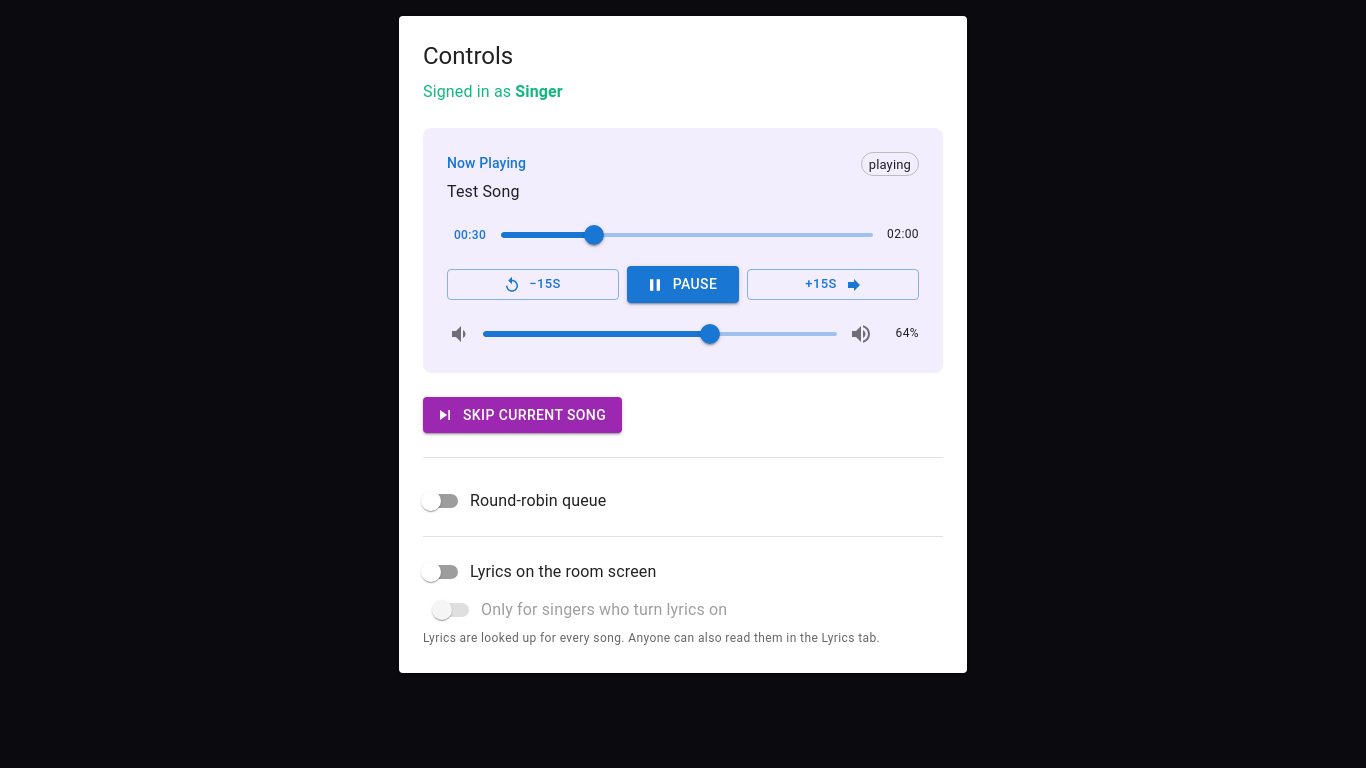
Test case: controller playback controls › opens the current time for exact entry and rejects times beyond the video
This screenshot has width=1366, height=768.
Click the button named "Enter exact playback time". click: (470, 235)
box: [447,223,493,248]
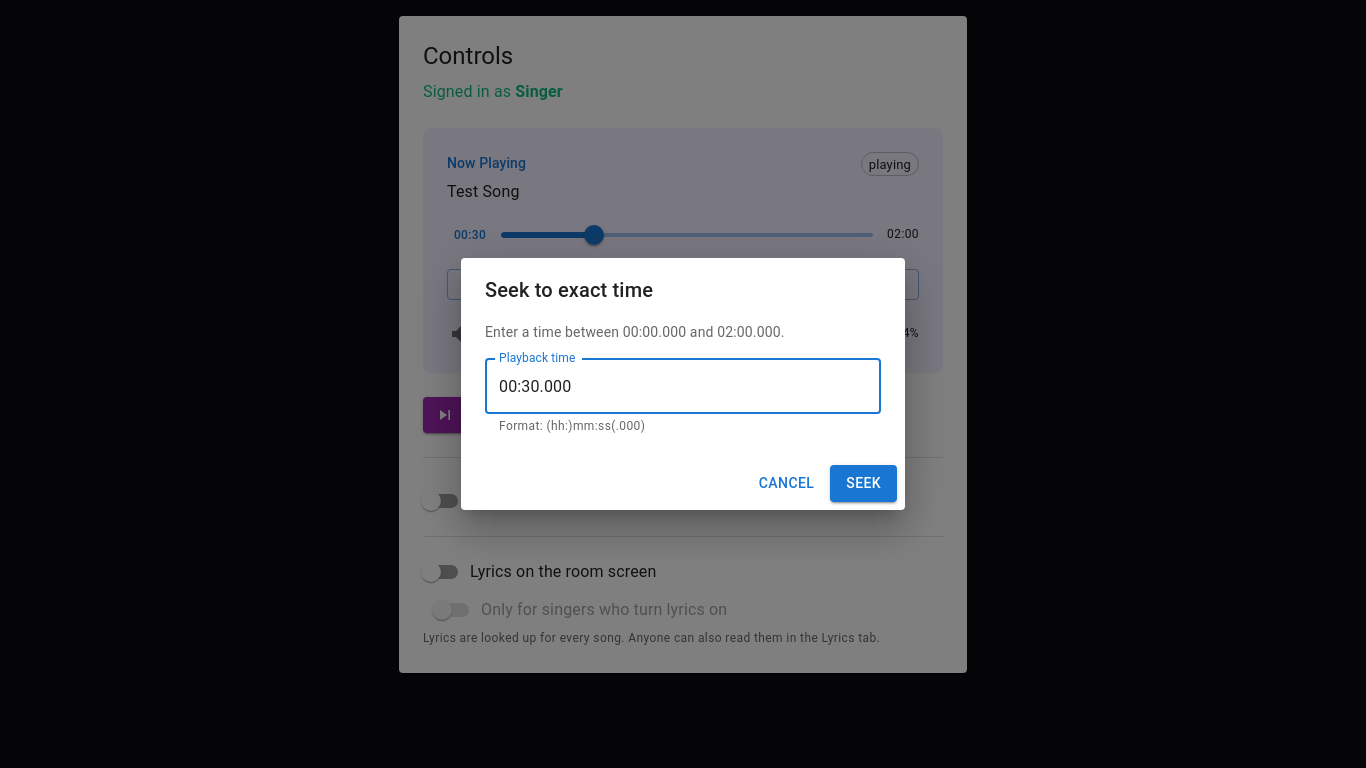
Result: the dialog "Seek to exact time" is shown at [461,258,905,510]
Result: the field labelled "Playback time" holds "00:30.000"
Replace the text in the field labelled "Playback time" with "02:00.001". click: (683, 386)
box: [485,358,881,414]
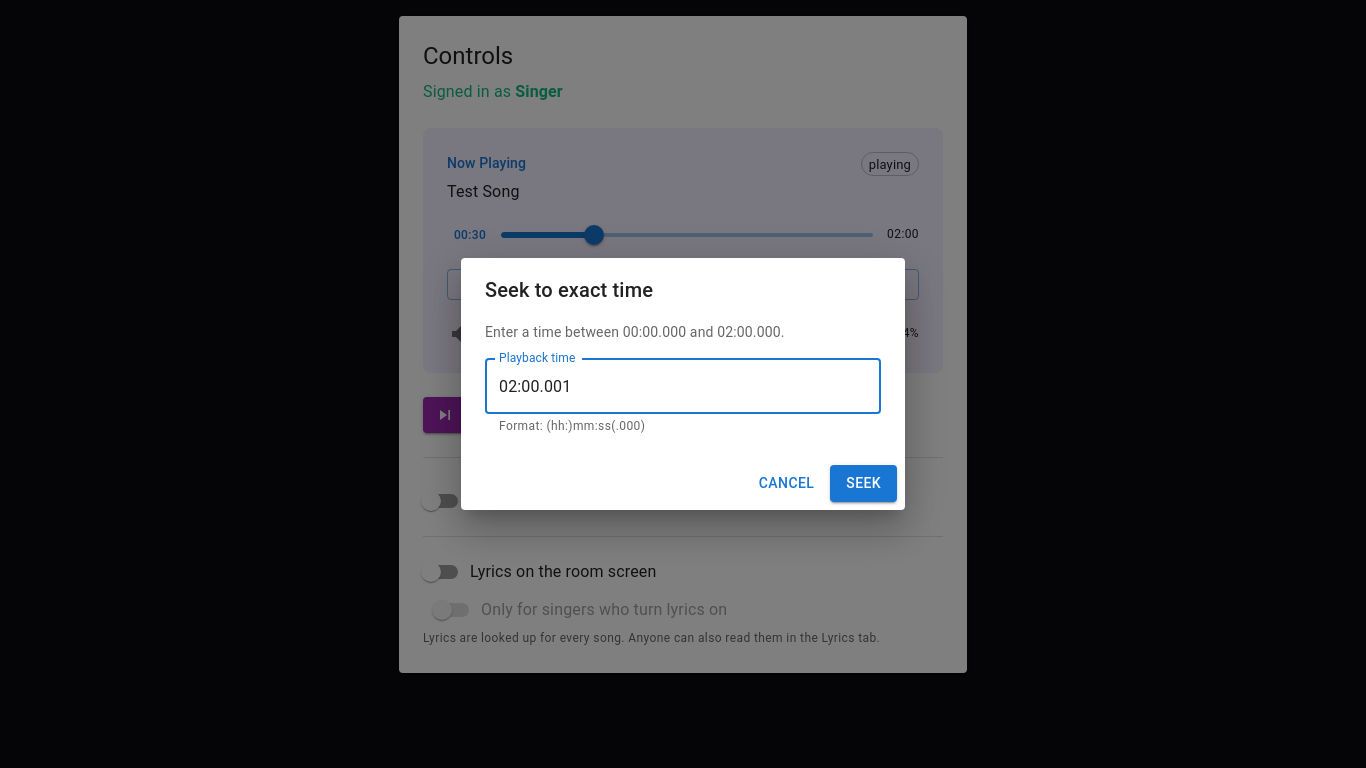
Click the button "Seek". click: (864, 483)
box: [830,465,897,502]
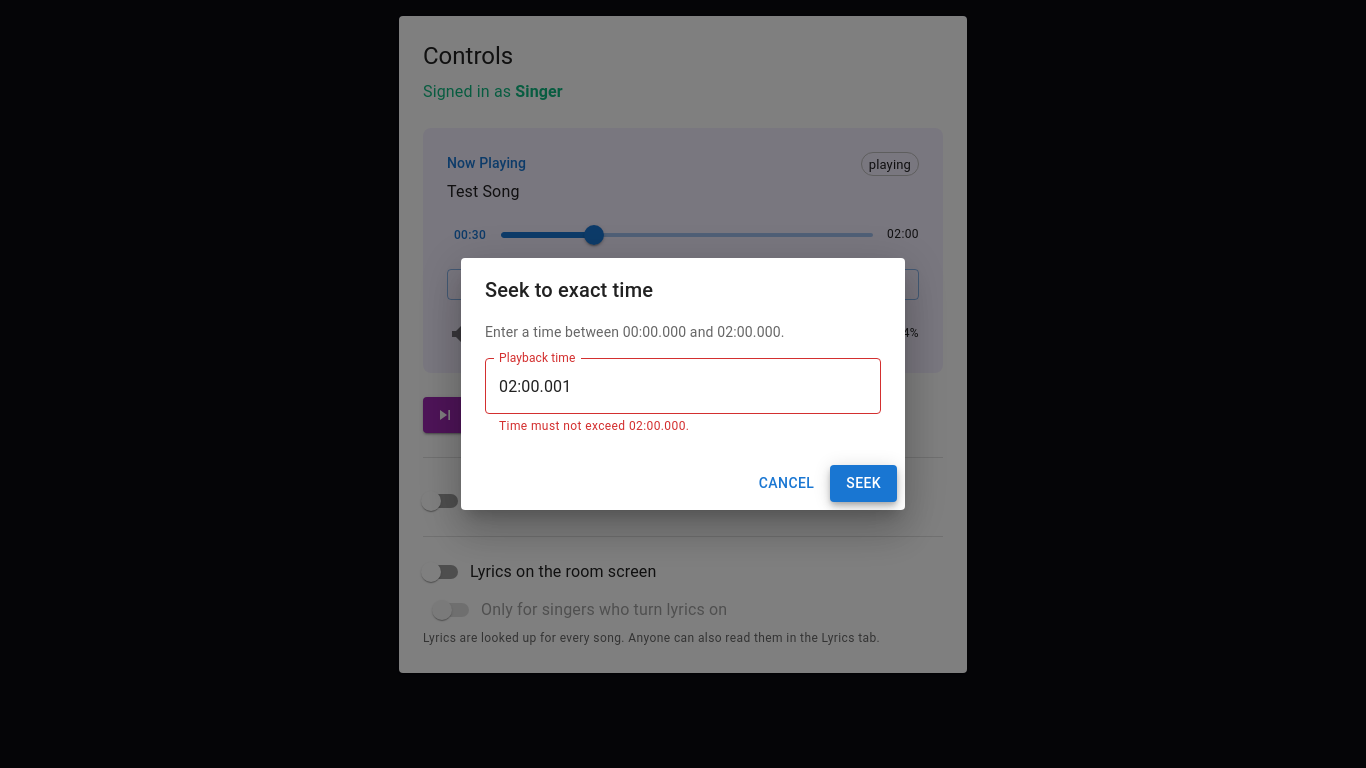
Result: the text "Time must not exceed 02:00.000." is shown at [499,419,689,433]
Replace the text in the field labelled "Playback time" with "01:15.250". click: (683, 386)
box: [485,358,881,414]
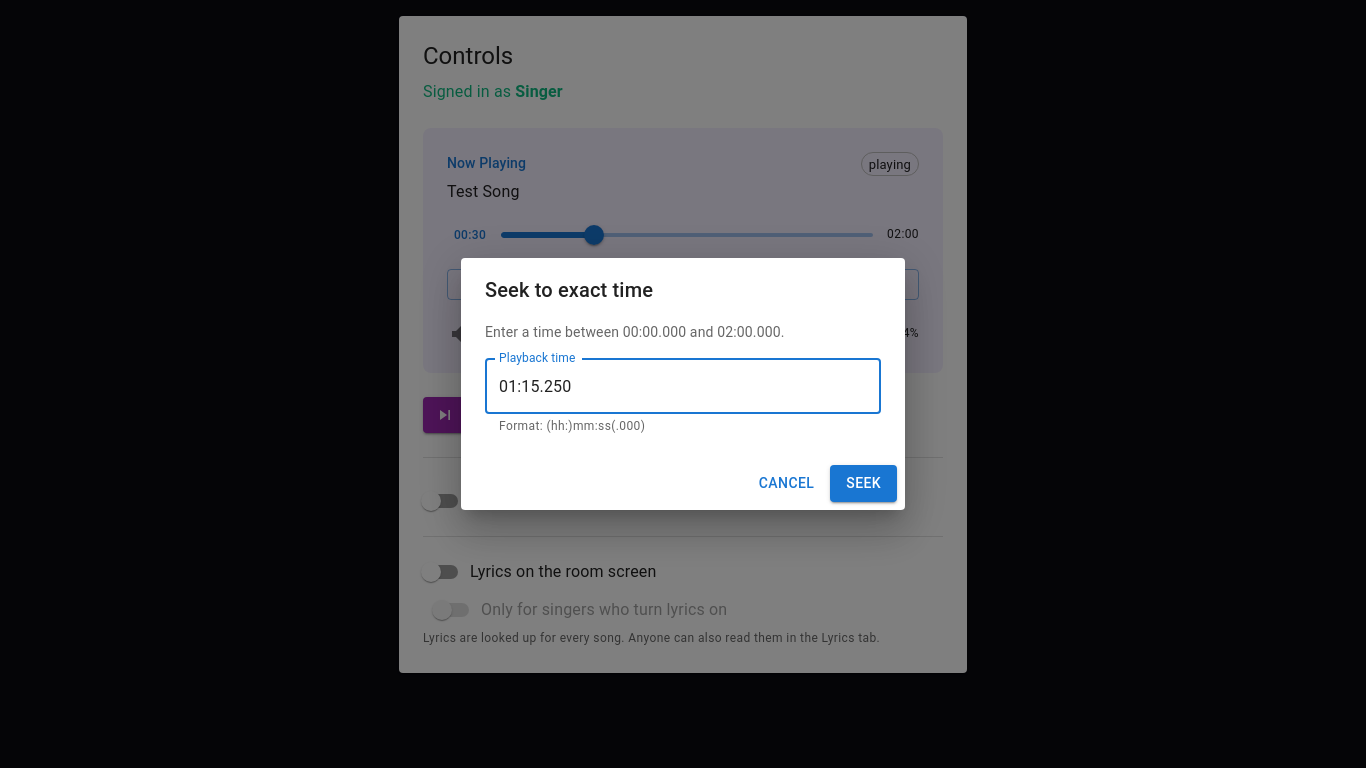
Click the button "Seek". click: (864, 483)
box: [830,465,897,502]
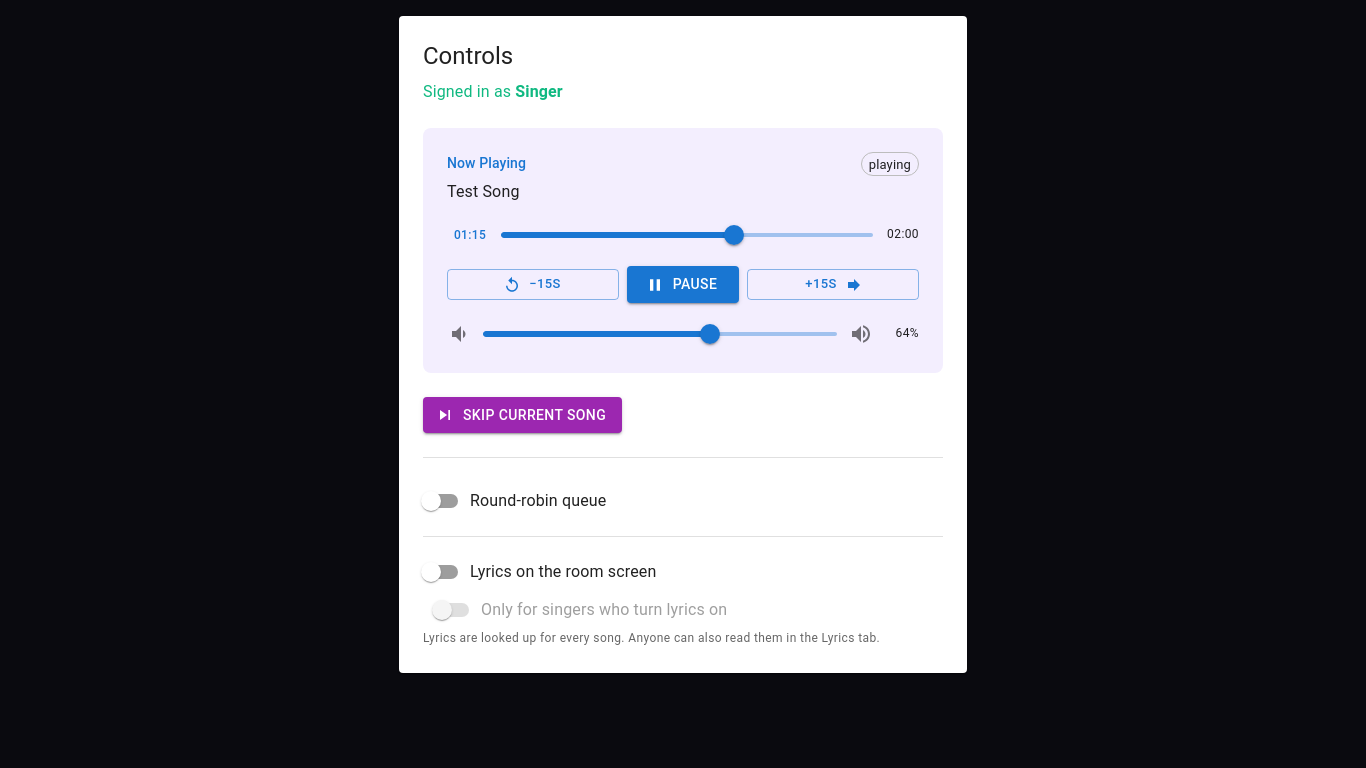
Result: the heading "Seek to exact time" is gone
